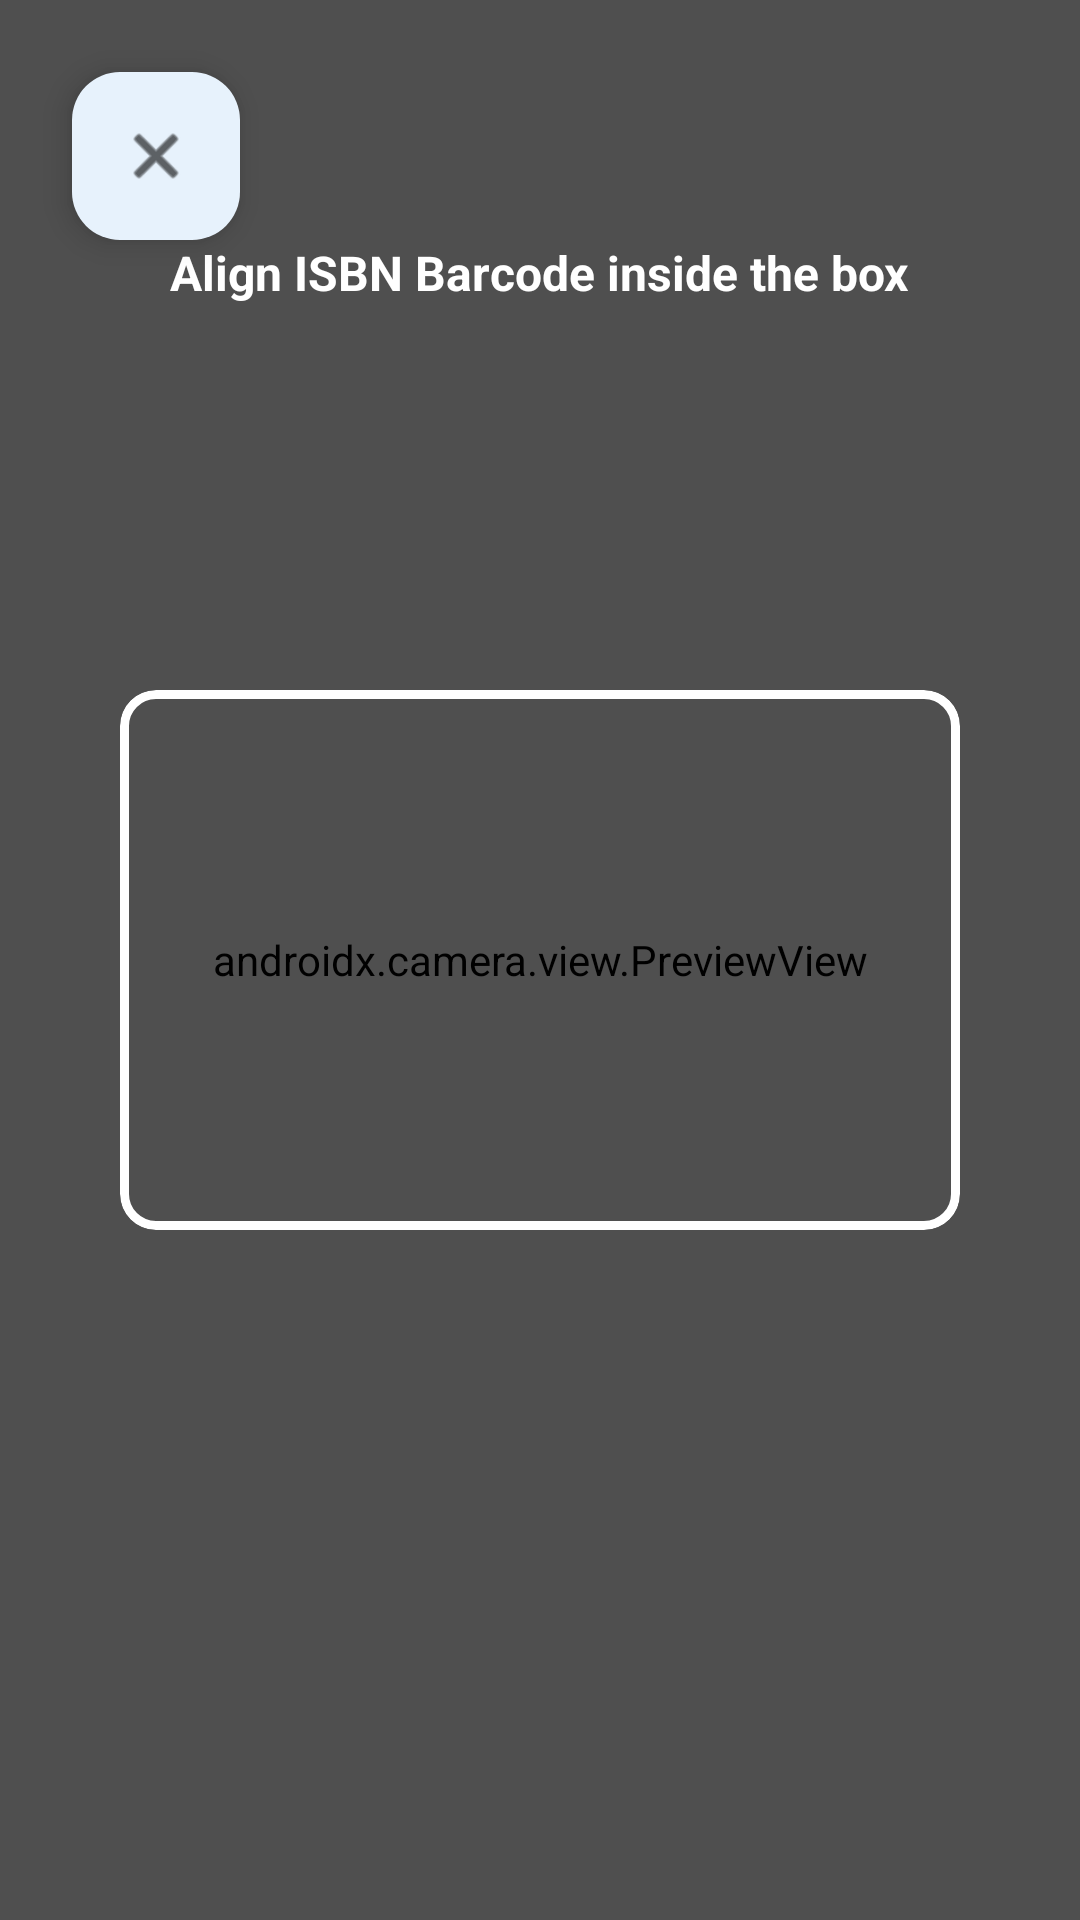

Icons on this 1080px×1920px Android screen, each with the point to tap as (x=x, y=y):
close clear cancel: (x=156, y=156)
